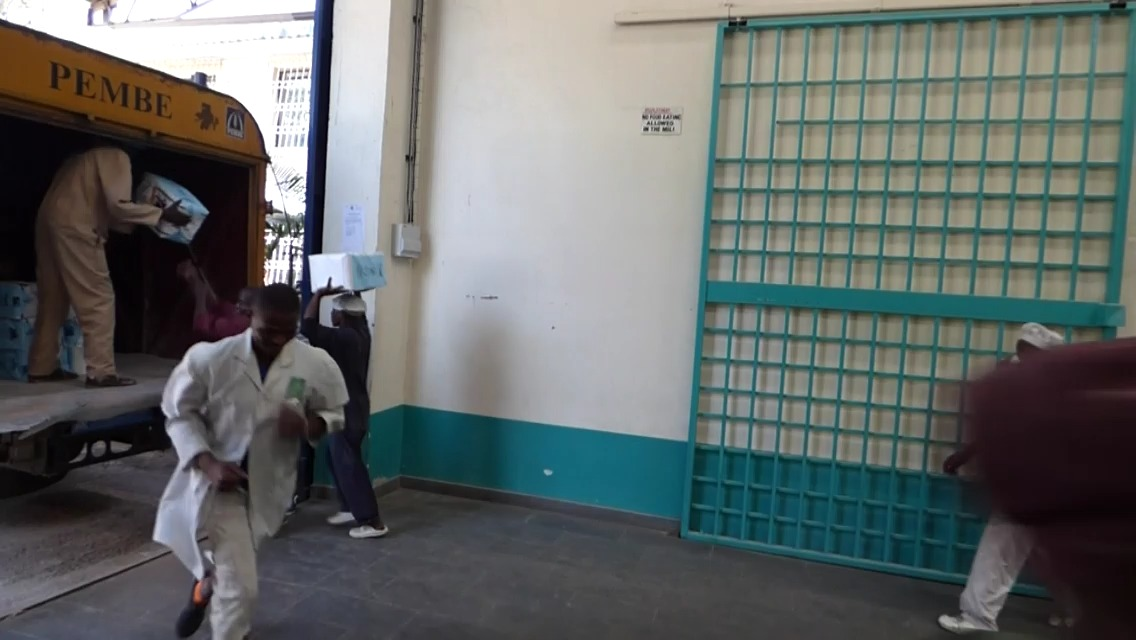wheat_flour_blue_label: (305, 256, 385, 293)
